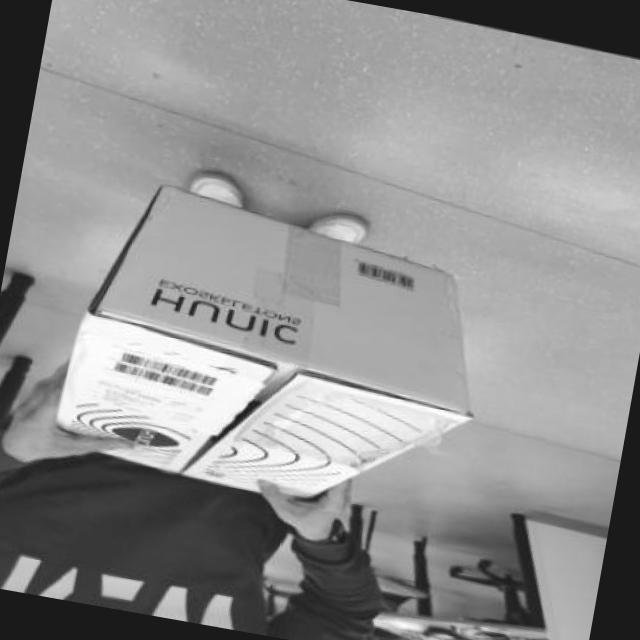box: (21, 144, 516, 558)
